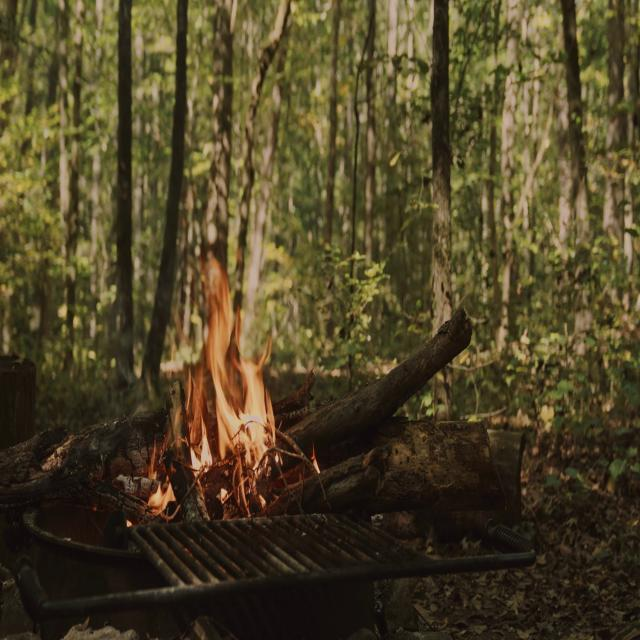Fire: (149, 254, 283, 516)
